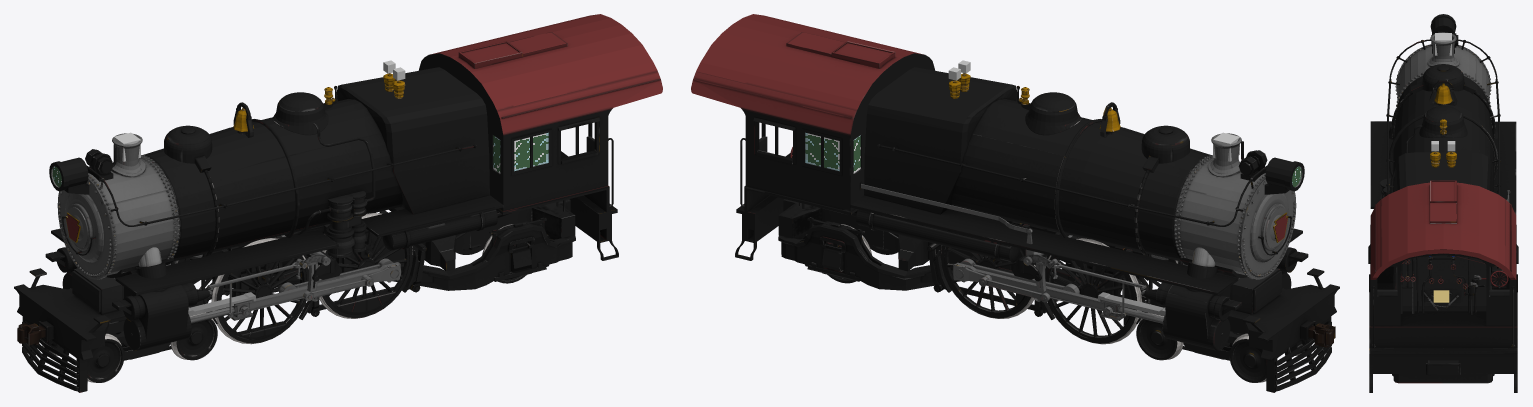
The model's file is e6_atlantic.obj.
3 renders of one model, left to right at view 1: azimuth 30°, elevation 25°; view 2: azimuth 150°, elevation 25°; view 3: azimuth 270°, elevation 25°, orthographic. The views are drawn at different scales.
Visible parts, largest first — view 1: SHELL_Cylinder, E6_CAB_INTERIOR_Cube.033, E6_FRAME_Cube.003, SMOKEBOX_Cylinder.051, runningboard_INTERIOR_Cylinder.049, STEAM_CHEST_Cylinder.039, BOGEY_REAR_Cube.023, Cylinder.010_Cylinder.021, WHEEL_DRIVER_1_driverfront, WHEEL_DRIVER_2_driverrear.002, Cylinder.006_Cylinder.009, SMOKEBOX.001_Cylinder.002 (+10 smaller); view 2: SHELL_Cylinder, E6_CAB_INTERIOR_Cube.033, E6_FRAME_Cube.003, SMOKEBOX_Cylinder.051, runningboard_INTERIOR_Cylinder.049, STEAM_CHEST_Cylinder.039, BOGEY_REAR_Cube.023, Cylinder.010_Cylinder.021, WHEEL_DRIVER_1_driverfront, WHEEL_DRIVER_2_driverrear.002, SMOKEBOX.001_Cylinder.002, BOGEY_FRONT_WHEEL_1_Cylinder.017 (+9 smaller); view 3: E6_CAB_INTERIOR_Cube.033, SHELL_Cylinder, runningboard_INTERIOR_Cylinder.049, SMOKEBOX_Cylinder.051, Cylinder.010_Cylinder.021, BOGEY_REAR_Cube.023, BELL_Cylinder.052, E6_FRAME_Cube.003, SMOKEBOX.001_Cylinder.002, SHELL_FULLBRIGHT_Cylinder.034, REVERSER_1_Cube.029, CHIMNEY_0_Cube.018 (+3 smaller).
Part boxes in pixels (x1,y1,x2,y2): SHELL_Cylinder: (143, 67, 511, 261); E6_CAB_INTERIOR_Cube.033: (418, 14, 662, 260); E6_FRAME_Cube.003: (14, 199, 575, 392); SMOKEBOX_Cylinder.051: (57, 133, 476, 279); runningboard_INTERIOR_Cylinder.049: (51, 136, 613, 295); STEAM_CHEST_Cylinder.039: (45, 247, 255, 350); BOGEY_REAR_Cube.023: (393, 217, 575, 290); Cylinder.010_Cylinder.021: (164, 92, 328, 324); WHEEL_DRIVER_1_driverfront: (175, 238, 308, 344); WHEEL_DRIVER_2_driverrear.002: (290, 213, 412, 318); Cylinder.006_Cylinder.009: (326, 191, 367, 257); SMOKEBOX.001_Cylinder.002: (49, 144, 116, 242); SHELL_Cylinder: (842, 67, 1210, 261); E6_CAB_INTERIOR_Cube.033: (691, 14, 935, 260); E6_FRAME_Cube.003: (778, 199, 1339, 392); SMOKEBOX_Cylinder.051: (877, 133, 1296, 279); runningboard_INTERIOR_Cylinder.049: (740, 136, 1302, 295); STEAM_CHEST_Cylinder.039: (1098, 247, 1308, 350); BOGEY_REAR_Cube.023: (778, 217, 960, 290); Cylinder.010_Cylinder.021: (1025, 92, 1189, 324); WHEEL_DRIVER_1_driverfront: (1045, 238, 1177, 344); WHEEL_DRIVER_2_driverrear.002: (941, 222, 1066, 318); SMOKEBOX.001_Cylinder.002: (1238, 141, 1304, 242); BOGEY_FRONT_WHEEL_1_Cylinder.017: (1229, 333, 1312, 382); E6_CAB_INTERIOR_Cube.033: (1368, 180, 1518, 392); SHELL_Cylinder: (1393, 76, 1506, 311); runningboard_INTERIOR_Cylinder.049: (1370, 121, 1516, 347); SMOKEBOX_Cylinder.051: (1386, 32, 1500, 194); Cylinder.010_Cylinder.021: (1389, 64, 1497, 180); BOGEY_REAR_Cube.023: (1392, 374, 1494, 383); BELL_Cylinder.052: (1429, 80, 1457, 167); E6_FRAME_Cube.003: (1426, 360, 1460, 375); SMOKEBOX.001_Cylinder.002: (1430, 14, 1458, 53); SHELL_FULLBRIGHT_Cylinder.034: (1433, 290, 1449, 302); REVERSER_1_Cube.029: (1490, 267, 1508, 288); CHIMNEY_0_Cube.018: (1435, 33, 1451, 55).
Bounding box in the file's own units: 12.89 × 4.63 × 3.25.
15 materials, 11 textured.
